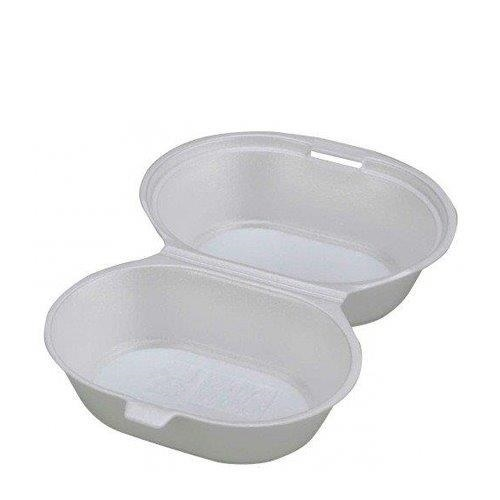Foam Box: (37, 126, 462, 468)
